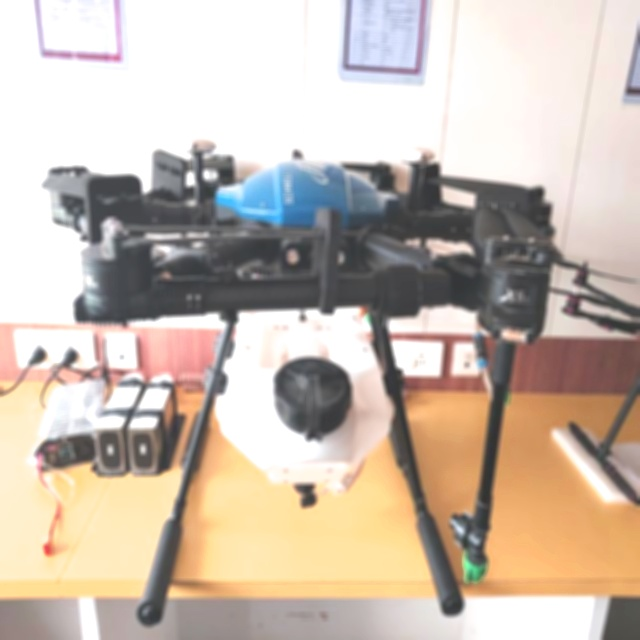agriculturedrone: (42, 136, 580, 631)
